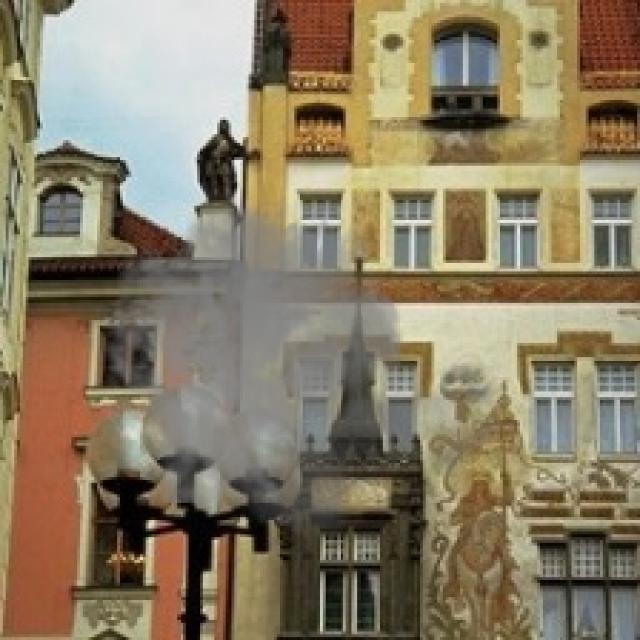Smoke: (94, 180, 512, 549)
